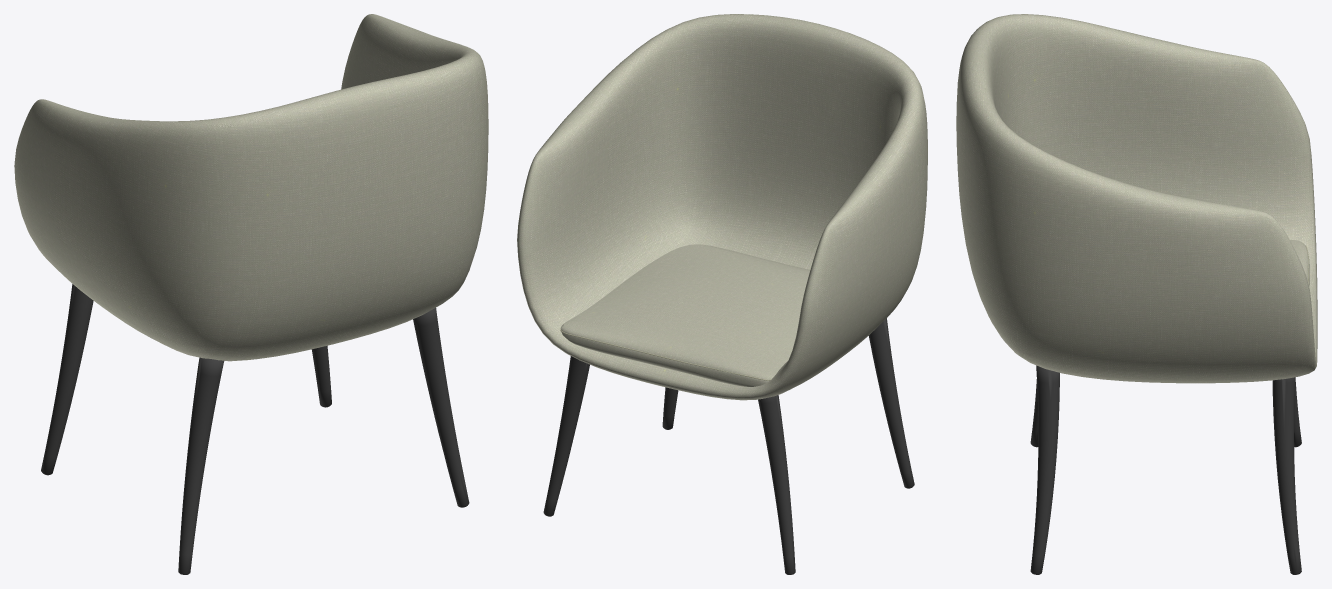
File: modern-upholstered-dining-chair.glb
The picture shows the model from 3 angles, left to right: view 1: azimuth 30°, elevation 25°; view 2: azimuth 150°, elevation 25°; view 3: azimuth 270°, elevation 25°; orthographic projection. The views are drawn at different scales.
Visible parts, largest first — view 1: Object_5, Object_4; view 2: Object_5, Object_4; view 3: Object_5, Object_4.
Boxes of the visible parts, left/top/right/bottom form: Object_5: left=14, top=14, right=488, bottom=361; Object_4: left=41, top=284, right=469, bottom=574; Object_5: left=517, top=14, right=927, bottom=400; Object_4: left=543, top=318, right=914, bottom=574; Object_5: left=956, top=14, right=1317, bottom=383; Object_4: left=1030, top=365, right=1301, bottom=574.
Bounding box in the file's own units: 0.5924 × 0.7393 × 0.5373.
3 materials, 2 textured.
